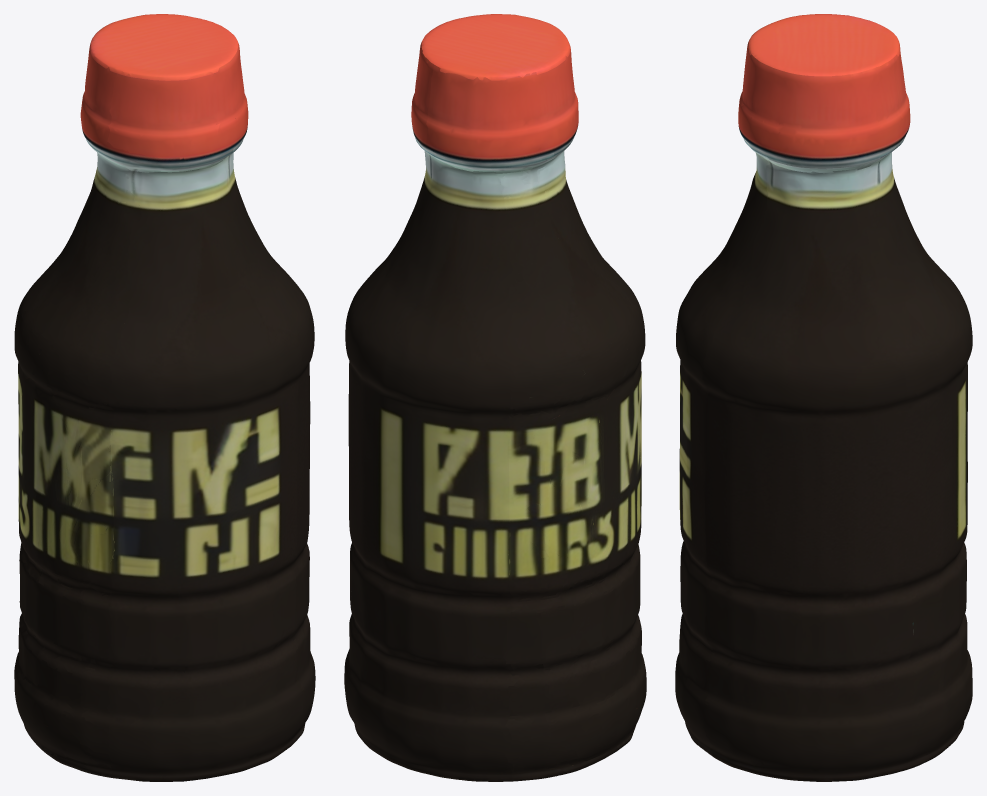
The picture shows the model from 3 angles, left to right: view 1: azimuth 30°, elevation 25°; view 2: azimuth 150°, elevation 25°; view 3: azimuth 270°, elevation 25°; orthographic projection.
Visible parts, largest first — view 1: tmpvt9cq8gj.ply; view 2: tmpvt9cq8gj.ply; view 3: tmpvt9cq8gj.ply.
Part boxes in pixels (x1,y1,x2,y2): tmpvt9cq8gj.ply: (14,14,315,781); tmpvt9cq8gj.ply: (344,14,646,781); tmpvt9cq8gj.ply: (675,14,972,781).
Bounding box in the file's own units: 79.08 × 196 × 77.59.
Materials: 1 (1 with a texture image).
